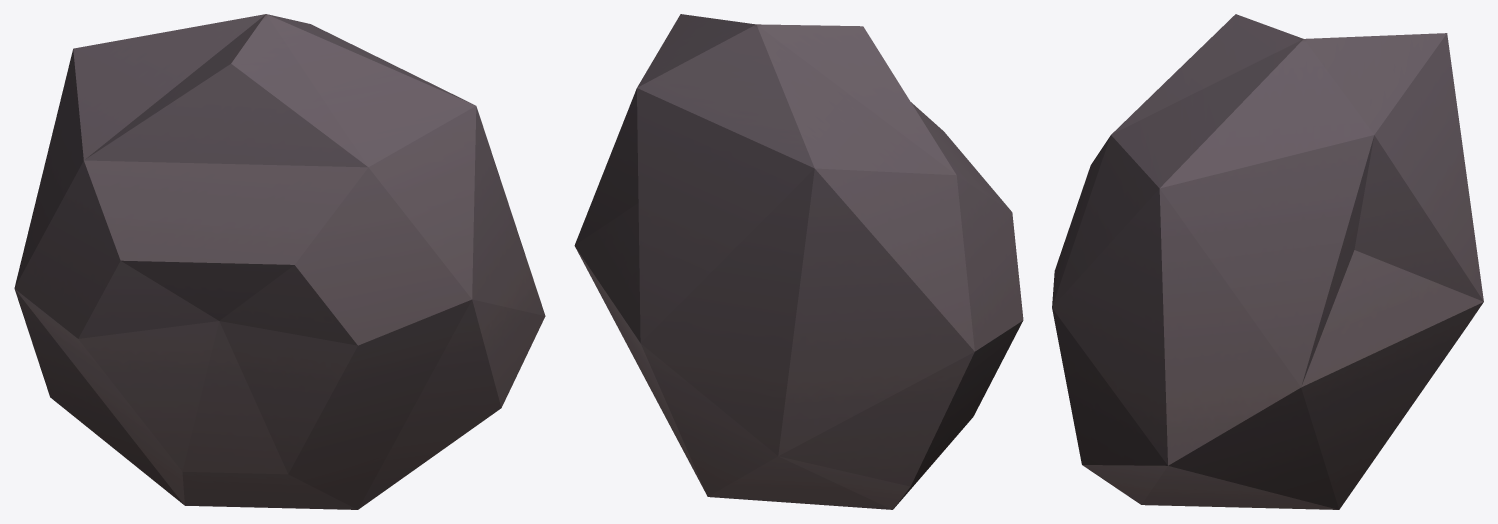
Rendered from Rock_003.FBX.
3 renders of one model, left to right at view 1: azimuth 30°, elevation 25°; view 2: azimuth 150°, elevation 25°; view 3: azimuth 270°, elevation 25°, orthographic. The views are drawn at different scales.
Parts seen in each view (by area): view 1: Rock_003; view 2: Rock_003; view 3: Rock_003.
Boxes of the visible parts, left/top/right/bottom form: Rock_003: left=14, top=14, right=545, bottom=509; Rock_003: left=574, top=14, right=1023, bottom=509; Rock_003: left=1052, top=14, right=1483, bottom=509.
Size of the model in its own units: 2.48 by 2.4 by 2.02.
1 material, 1 textured.
